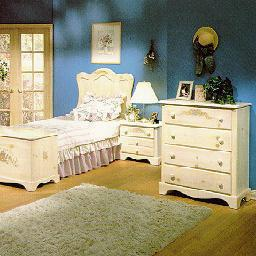Armario: (163, 105, 244, 209)
Cama: (58, 100, 119, 180)
